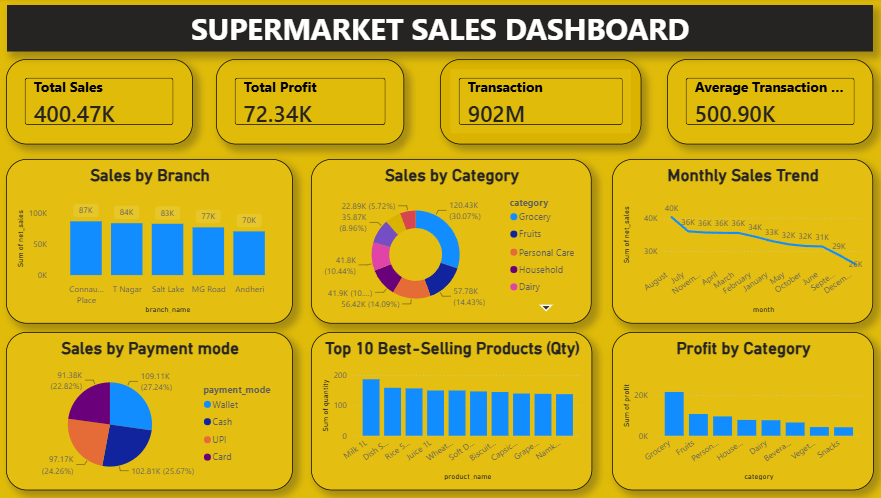

This screenshot's page, from the dashboard's own definition file:
{"tool":"powerbi","page":{"name":"Page 1","canvas":[1280,720],"ordinal":0},"visuals":[{"type":"columnChart","title":"Sales by Branch","fields":{"Y":["Sum(supermarket_sales_processed.net_sales)"],"Category":["supermarket_sales_processed.branch_name"]},"box":[14.3,231.4,412.9,237.1],"z":0},{"type":"donutChart","title":"Sales by Category","fields":{"Category":["supermarket_sales_processed.category"],"Y":["Sum(supermarket_sales_processed.net_sales)"]},"box":[453.3,231.7,404.3,237.1],"z":1000},{"type":"lineChart","title":"Monthly Sales Trend","fields":{"Y":["Sum(supermarket_sales_processed.net_sales)"],"Category":["supermarket_sales_processed.month"]},"box":[887,231.8,375.7,237.1],"z":2000},{"type":"pieChart","title":"Sales by Payment mode","fields":{"Category":["supermarket_sales_processed.payment_mode"],"Y":["Sum(supermarket_sales_processed.net_sales)"]},"box":[15,481.7,413.3,228.3],"z":3000},{"type":"columnChart","title":"Top 10 Best-Selling Products (Qty)","fields":{"Y":["Sum(supermarket_sales_processed.quantity)"],"Category":["supermarket_sales_processed.product_name"]},"box":[453.3,481.7,405,228.3],"z":4000},{"type":"lineClusteredColumnComboChart","title":"Profit by Category","fields":{"Y":["Sum(supermarket_sales_processed.profit)"],"Category":["supermarket_sales_processed.category"]},"box":[886.7,481.7,376.7,228.3],"z":5000},{"type":"cardVisual","fields":{"Data":["Sum(supermarket_sales_processed.net_sales)"]},"box":[14.3,87.1,268.6,122.9],"z":6000},{"type":"cardVisual","fields":{"Data":["Sum(supermarket_sales_processed.profit)"]},"box":[317.1,87.1,271.4,122.9],"z":7000},{"type":"cardVisual","fields":{"Data":["Sum(supermarket_sales_processed.transaction_id)"]},"box":[640,87.1,290,122.9],"z":8000},{"type":"cardVisual","fields":{"Data":["Avg(supermarket_sales_processed.transaction_id)"]},"box":[965.7,87.1,297.1,122.9],"z":9000},{"type":"textbox","box":[15.7,10,1247.1,67.1],"z":10000}]}

Visuals, with their boxes in screenshot pixels (x1, y1, x2, y2), scaled from the page's 1280x720 canvas onto the 881x498 screenshot:
"Sales by Branch" columnChart: detection(10, 160, 294, 324)
"Sales by Category" donutChart: detection(312, 160, 590, 324)
"Monthly Sales Trend" lineChart: detection(611, 160, 869, 324)
"Sales by Payment mode" pieChart: detection(10, 333, 295, 491)
"Top 10 Best-Selling Products (Qty)" columnChart: detection(312, 333, 591, 491)
"Profit by Category" lineClusteredColumnComboChart: detection(610, 333, 870, 491)
cardVisual - Sum(supermarket_sales_processed.net_sales): detection(10, 60, 195, 145)
cardVisual - Sum(supermarket_sales_processed.profit): detection(218, 60, 405, 145)
cardVisual - Sum(supermarket_sales_processed.transaction_id): detection(440, 60, 640, 145)
cardVisual - Avg(supermarket_sales_processed.transaction_id): detection(665, 60, 869, 145)
textbox: detection(11, 7, 869, 53)
